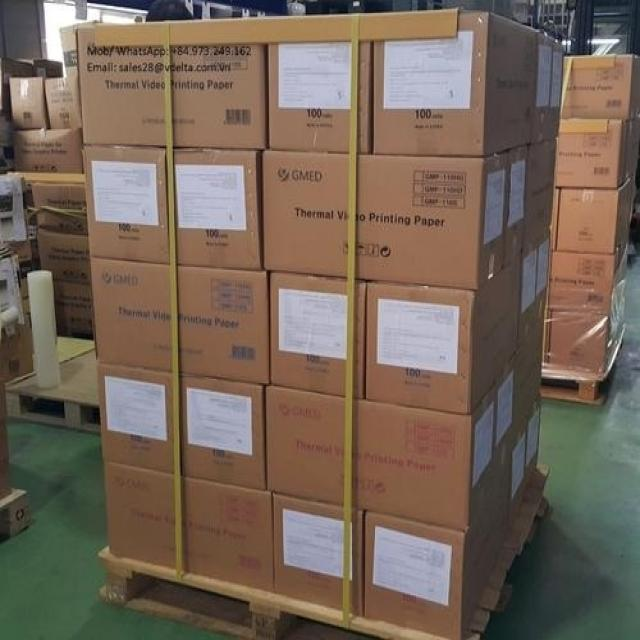box: (267, 357, 517, 531), (262, 144, 528, 292), (364, 461, 511, 638), (367, 252, 521, 415), (76, 21, 267, 148), (373, 13, 536, 156), (91, 256, 270, 384), (104, 462, 274, 591), (265, 16, 370, 152), (270, 272, 367, 398), (168, 148, 262, 270), (272, 492, 364, 616), (81, 143, 170, 264), (180, 372, 267, 490), (97, 363, 181, 476), (556, 174, 635, 255), (549, 235, 630, 313), (555, 115, 639, 188), (548, 294, 626, 372), (561, 55, 639, 120), (521, 135, 558, 252), (517, 229, 551, 355), (511, 404, 542, 535), (514, 324, 544, 457), (533, 30, 564, 144), (13, 127, 84, 174), (29, 184, 88, 235), (38, 230, 92, 284), (43, 278, 93, 336), (9, 77, 48, 128), (44, 77, 81, 126)
